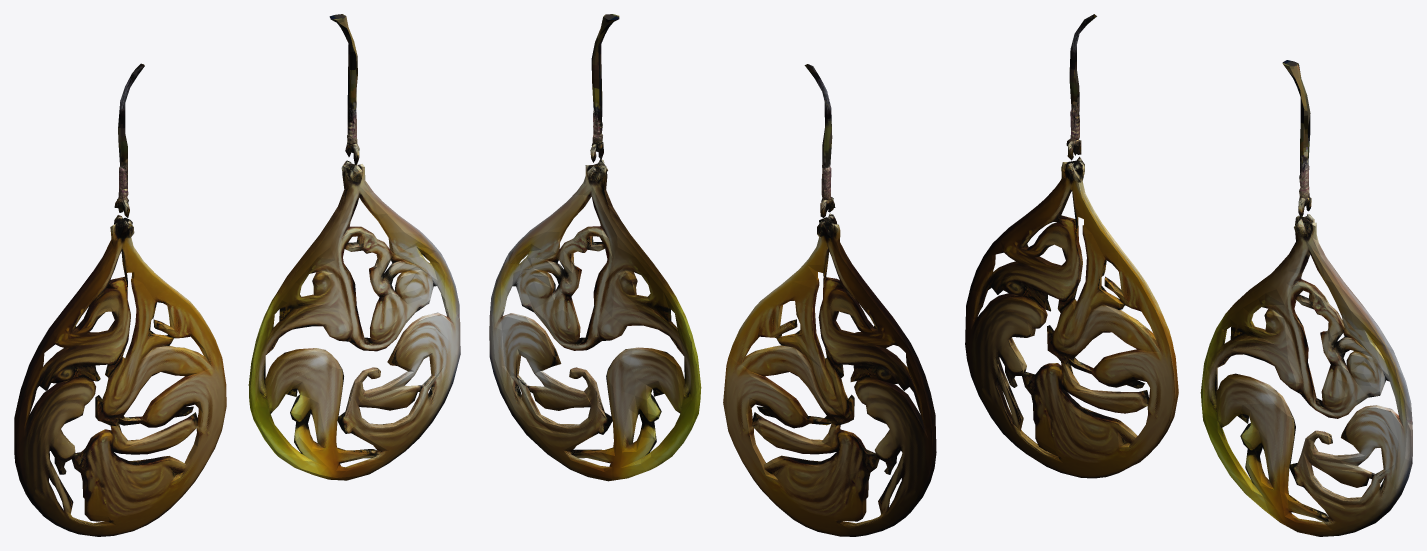
Rendered from horn-earrings-3d.jpeg.glb.
The picture shows the model from 3 angles, left to right: view 1: azimuth 30°, elevation 25°; view 2: azimuth 150°, elevation 25°; view 3: azimuth 330°, elevation 25°; orthographic projection.
Parts seen in each view (by area): view 1: world; view 2: world; view 3: world.
Part boxes in pixels (x1=…): world: x1=14, y1=14, x2=460, y2=536; world: x1=489, y1=14, x2=936, y2=536; world: x1=965, y1=14, x2=1412, y2=536.
Size of the model in its own units: 0.9997 by 1 by 0.0514.
1 material, 1 textured.
